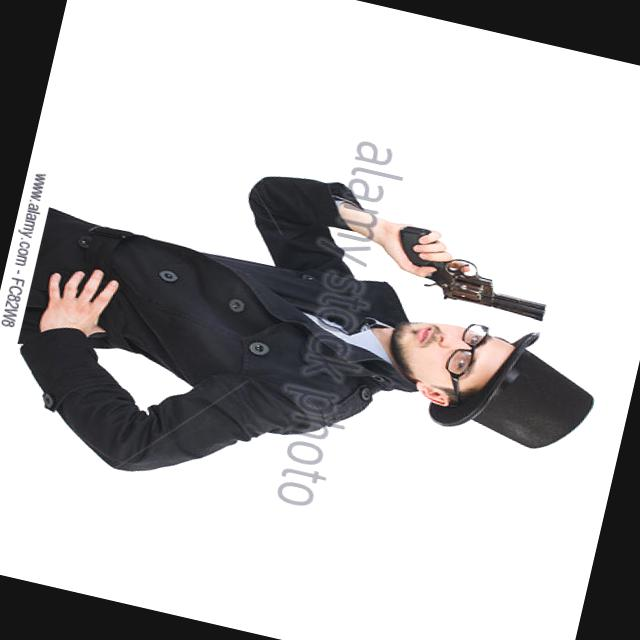handgun: (386, 221, 558, 326)
